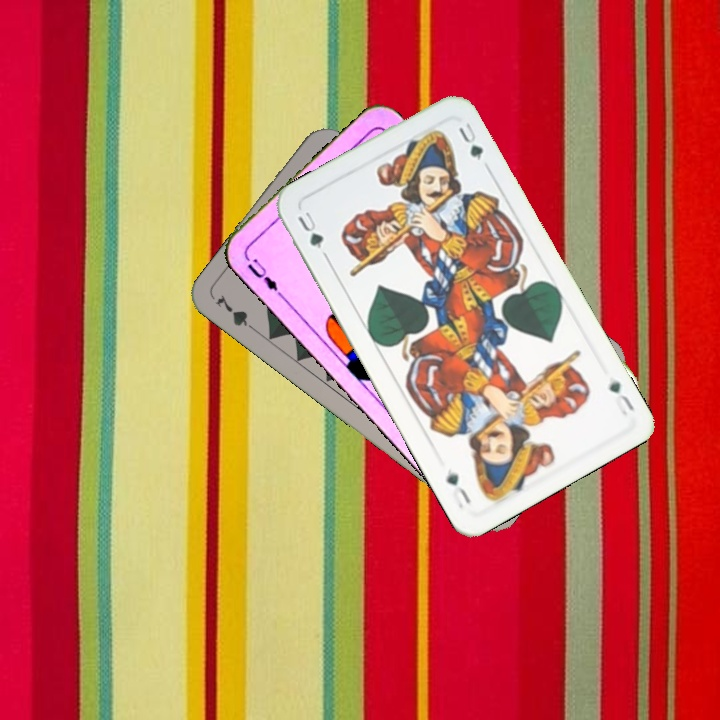EU: (241, 252, 286, 300)
G7: (211, 290, 262, 336)
GU: (293, 207, 326, 252), (605, 377, 637, 418)
